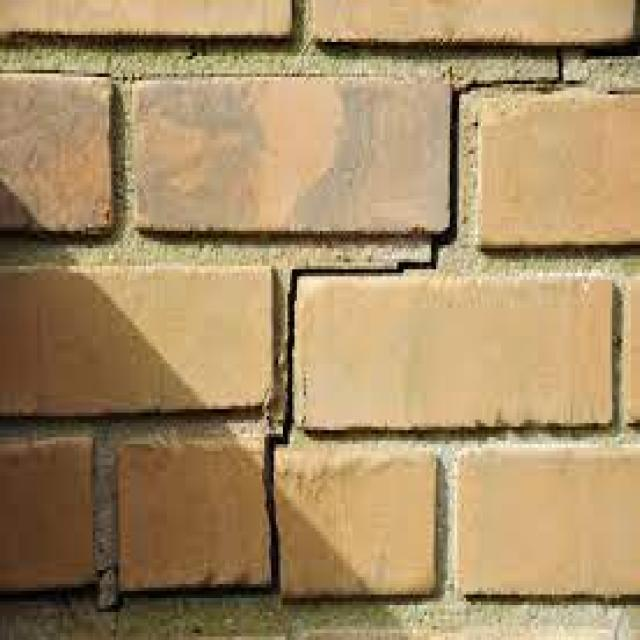Crack: (251, 46, 561, 591)
